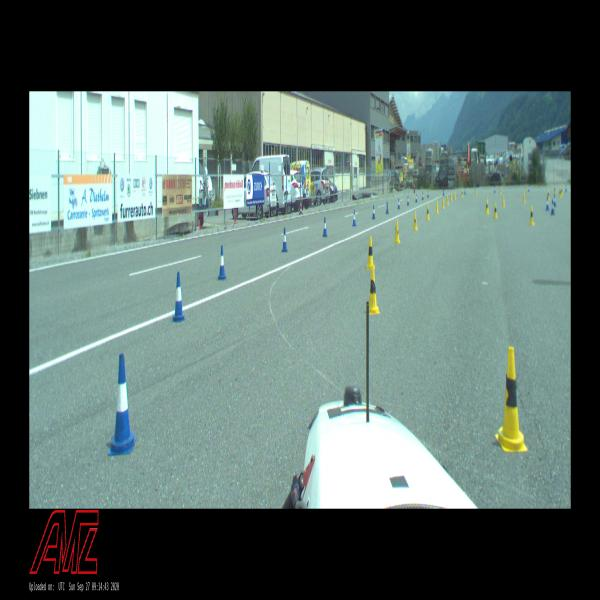blue_cone: (107, 353, 137, 456), (171, 272, 186, 322), (217, 246, 227, 280), (281, 227, 288, 252), (323, 217, 327, 237), (352, 210, 356, 226), (550, 199, 554, 214), (546, 197, 550, 210), (372, 206, 375, 219), (386, 201, 389, 214), (407, 195, 409, 206), (554, 195, 556, 206), (398, 199, 400, 209)
yellow_cone: (495, 347, 528, 451), (369, 265, 380, 314), (366, 236, 375, 269), (394, 220, 400, 243), (529, 206, 535, 226), (412, 212, 418, 230), (493, 203, 498, 218), (485, 198, 489, 214), (426, 205, 430, 220), (435, 200, 439, 213), (502, 195, 505, 207), (446, 195, 449, 204), (442, 197, 444, 209)
